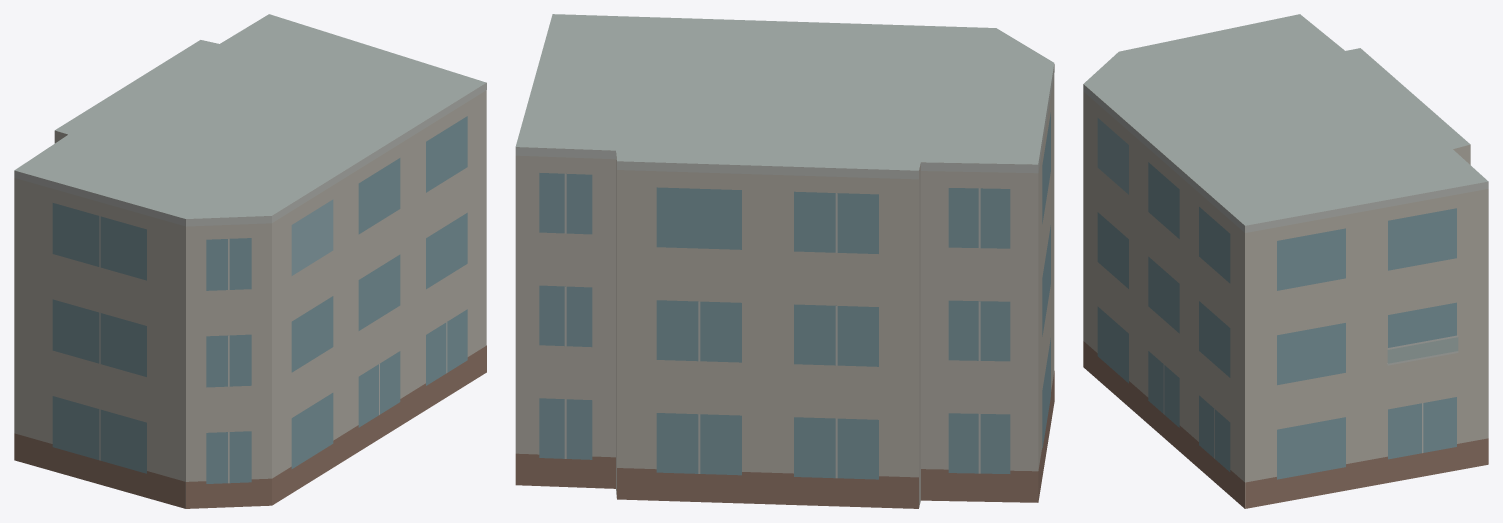
The model's file is survey-upis-32967893.glb.
The picture shows the model from 3 angles, left to right: view 1: azimuth 30°, elevation 25°; view 2: azimuth 150°, elevation 25°; view 3: azimuth 270°, elevation 25°; orthographic projection. The views are drawn at different scales.
Parts seen in each view (by area): view 1: survey-upis-32967893.tmp; view 2: survey-upis-32967893.tmp; view 3: survey-upis-32967893.tmp.
Boxes of the visible parts, x1,y1,x2,y2 form: survey-upis-32967893.tmp: (14, 14, 486, 508); survey-upis-32967893.tmp: (515, 14, 1054, 508); survey-upis-32967893.tmp: (1083, 14, 1488, 508).
Bounding box in the file's own units: 15.25 × 9.5 × 12.34.
